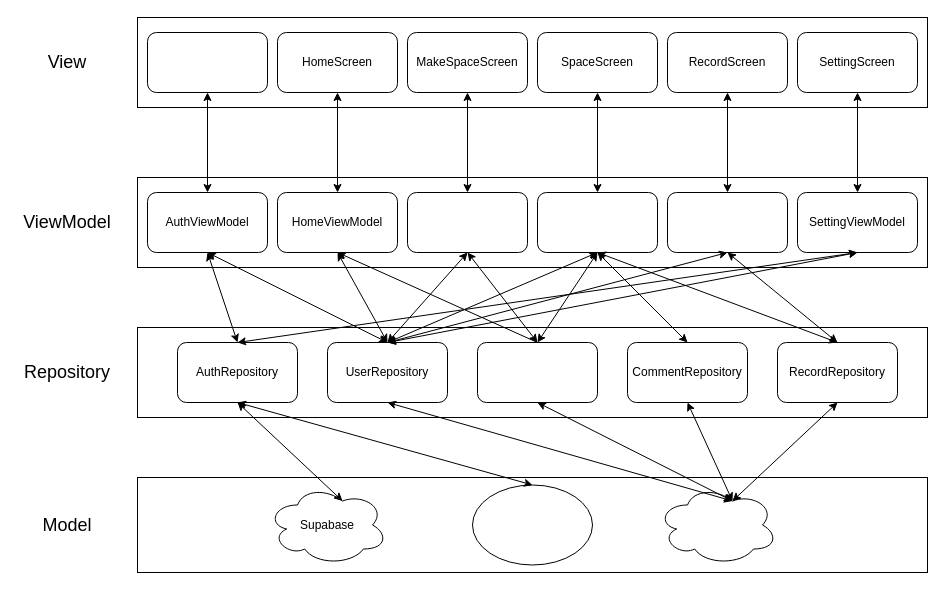
The diagram is 945 pixels wide and 590 high, and some of its shapes have lost their labels. Here are the shapes that lost their labels. From the top down, the centre of each, then its label:
the point at 207,62: AuthScreen
the point at 467,222: MakeSpaceViewModel
the point at 597,222: SpaceViewModel
the point at 727,222: RecordViewModel
the point at 537,372: SpaceRepository
the point at 532,524: Firebase Authentication
the point at 717,524: Firestore
